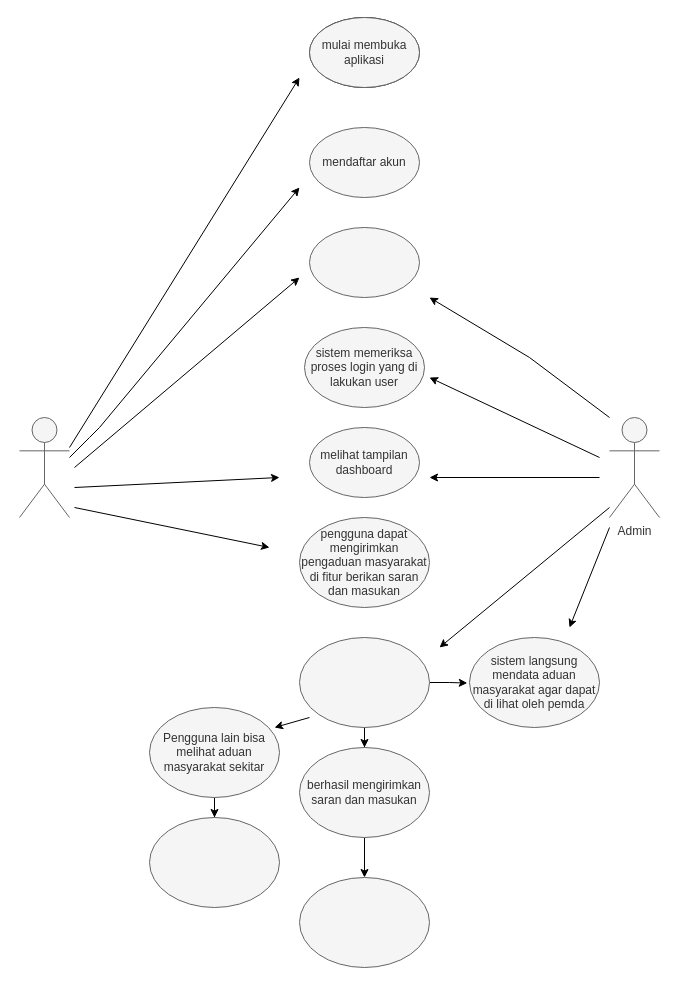
Some shapes in this 677 by 985 pixel diagram are drawn without their labels. Each missing label, with the centre of its shape:
admin menampilkan pengaduan masyarakat di dashboard: the point at 364,682
logout: the point at 364,922
Pengguna: the point at 44,467
Pengguna lain juga dapat menambahkan saran dan masukkan: the point at 214,862
proses login: the point at 364,262
